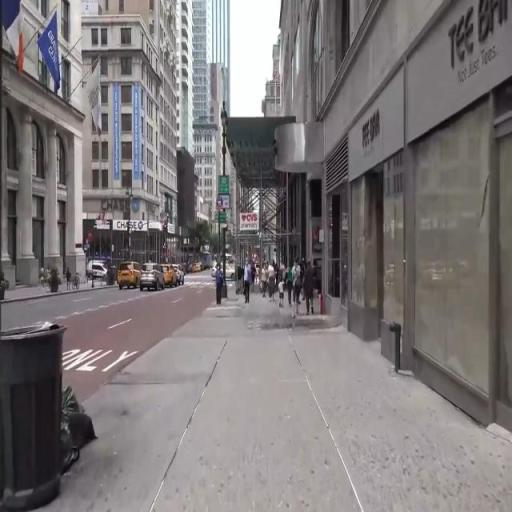person: (305, 261, 322, 327), (213, 260, 227, 311), (293, 259, 303, 323), (269, 257, 278, 307), (244, 258, 252, 307), (287, 261, 295, 301), (262, 259, 269, 298), (279, 276, 285, 308), (47, 263, 53, 293), (67, 266, 73, 295), (41, 267, 45, 293)
